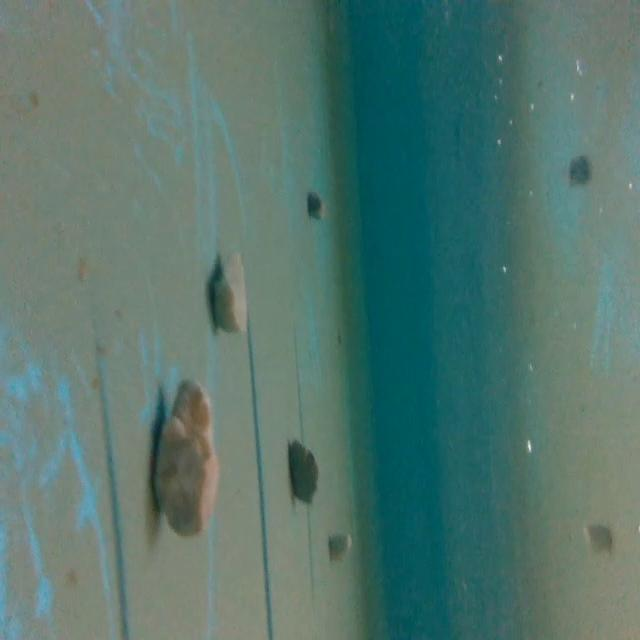rock: (150, 372, 222, 544), (205, 252, 255, 338), (286, 436, 321, 508)
